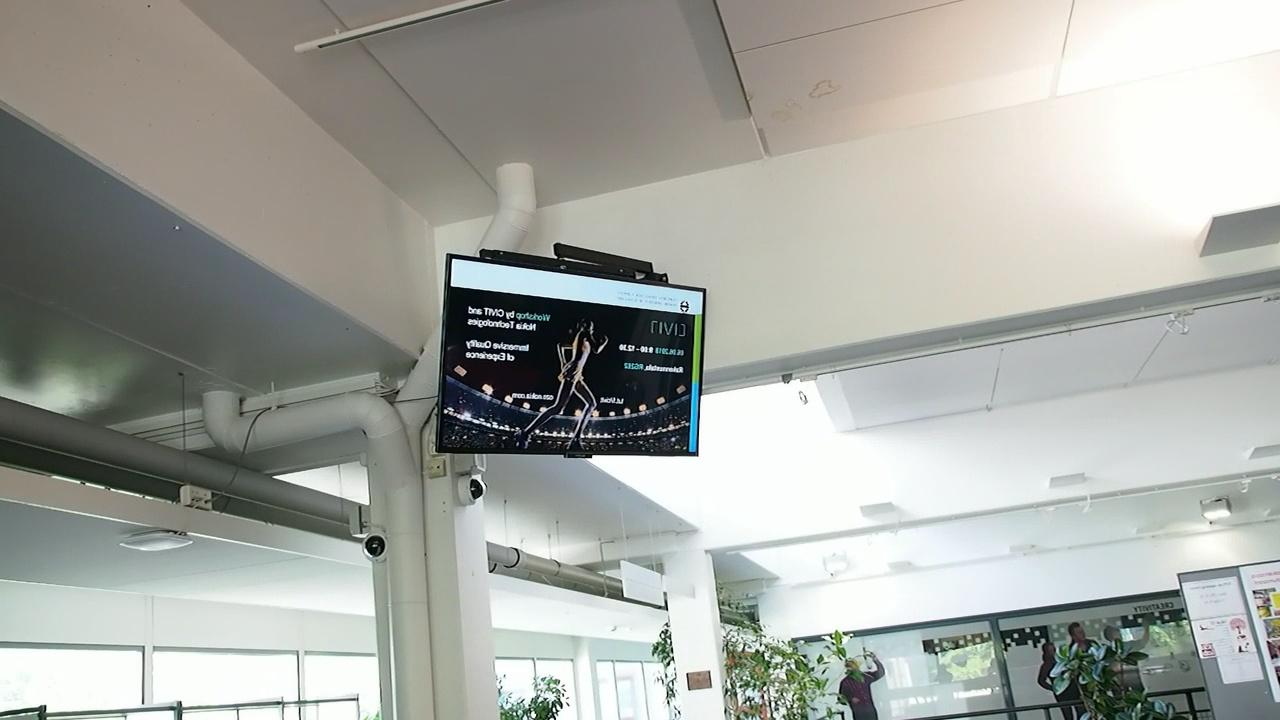screen: (428, 252, 709, 458)
